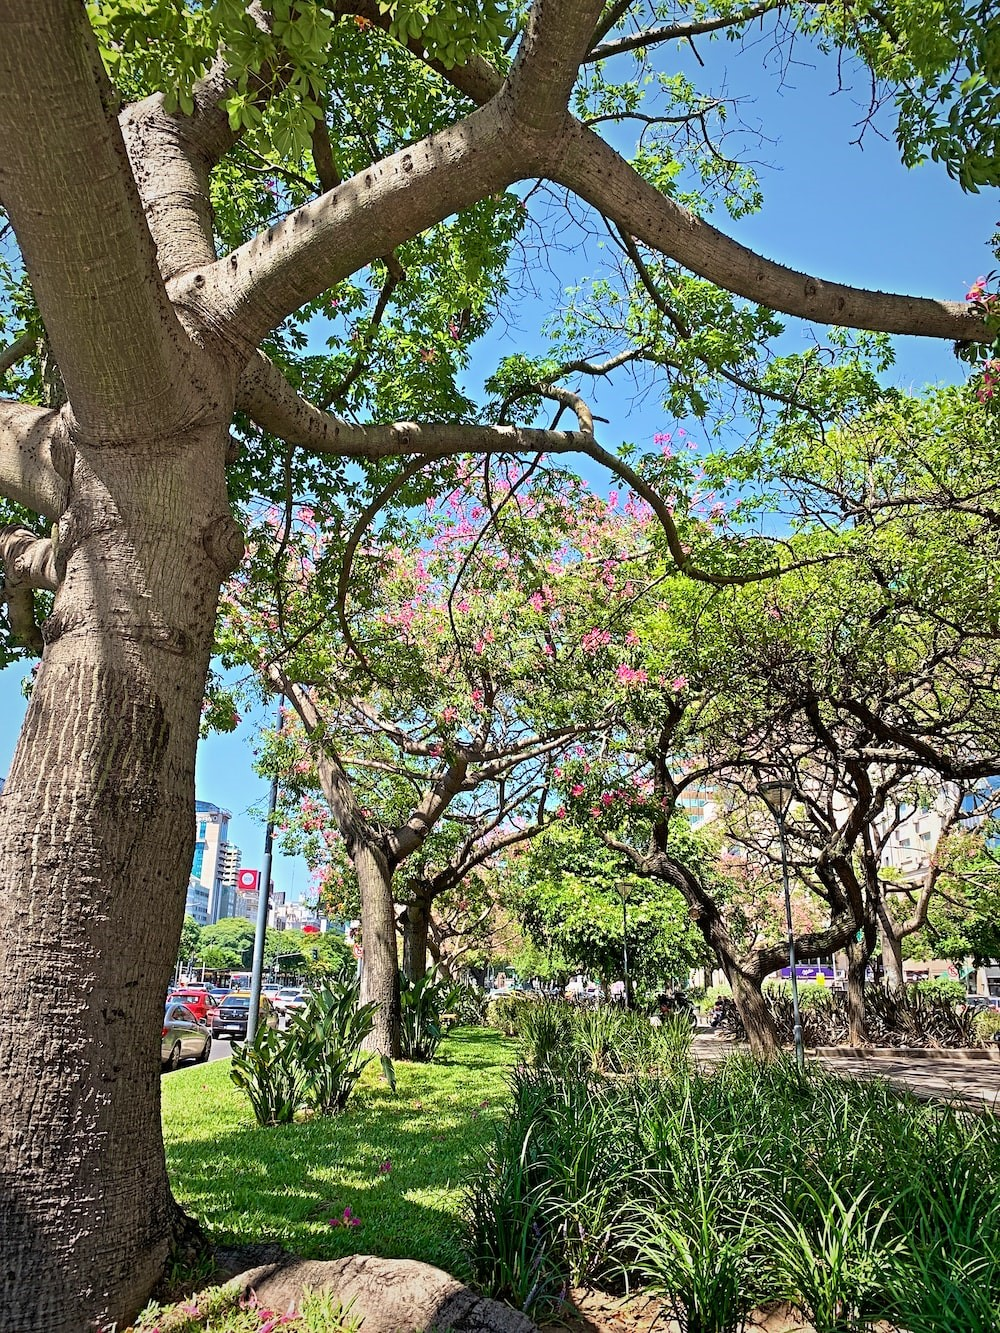tree: (0, 685, 269, 1320), (709, 911, 789, 1058), (354, 878, 401, 1068)
